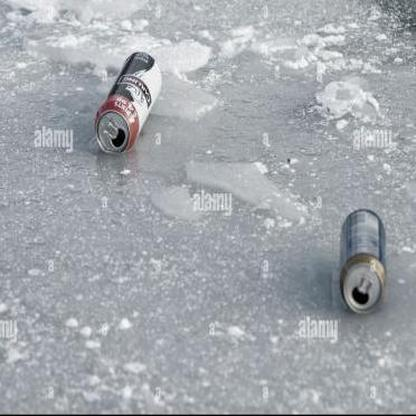can: (94, 51, 162, 156), (337, 208, 386, 315)
